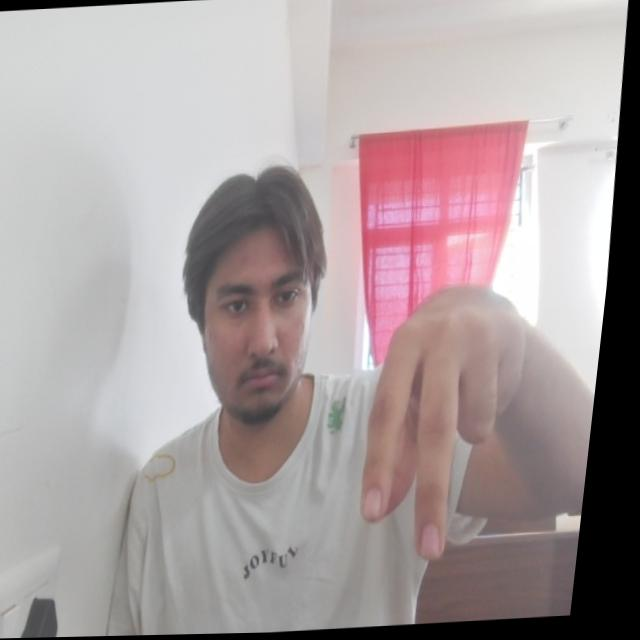no: (355, 277, 558, 567)
